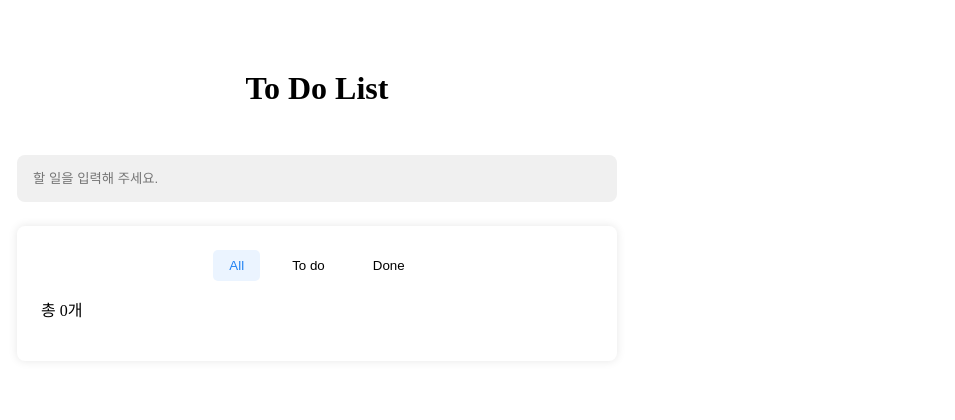
Test: TodoListPage › should add a task
In the field named "task input": (317, 179) [17, 155, 617, 202], type "New Task"
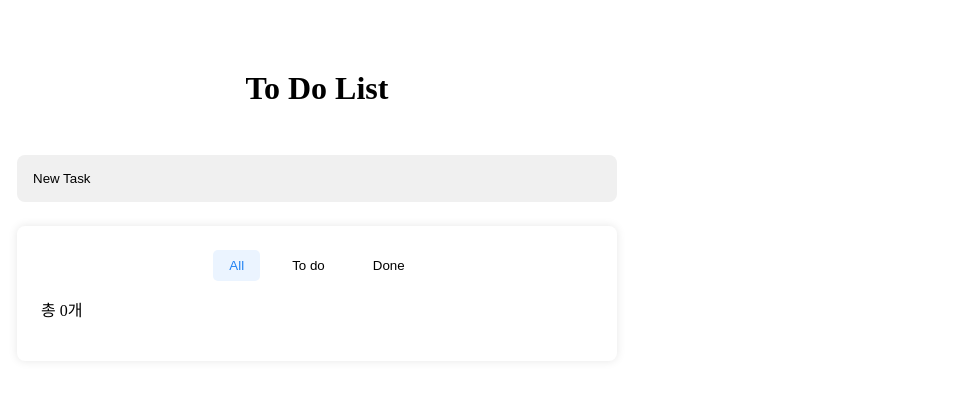
Press Enter in the field named "task input", box [17, 155, 617, 202]
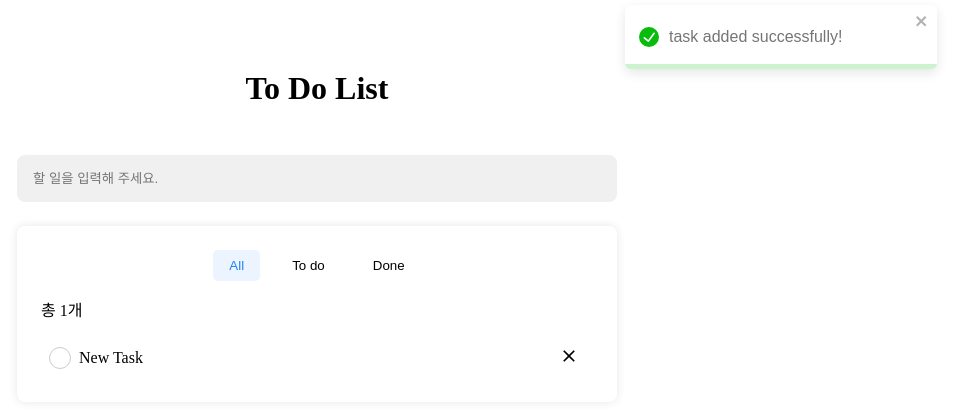
Result: the text "New Task" is shown at [79, 349, 143, 367]
